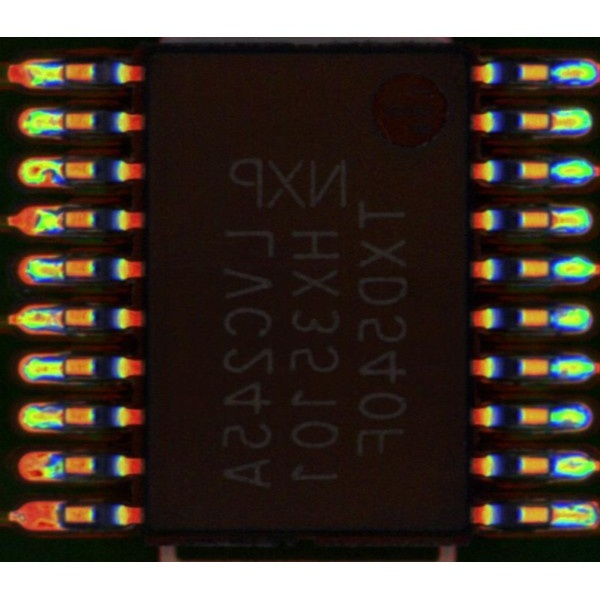Bad_podu: (534, 113, 576, 129), (533, 508, 583, 521), (532, 212, 576, 225), (35, 313, 81, 324), (35, 412, 81, 422), (46, 115, 80, 127), (42, 265, 79, 276)
